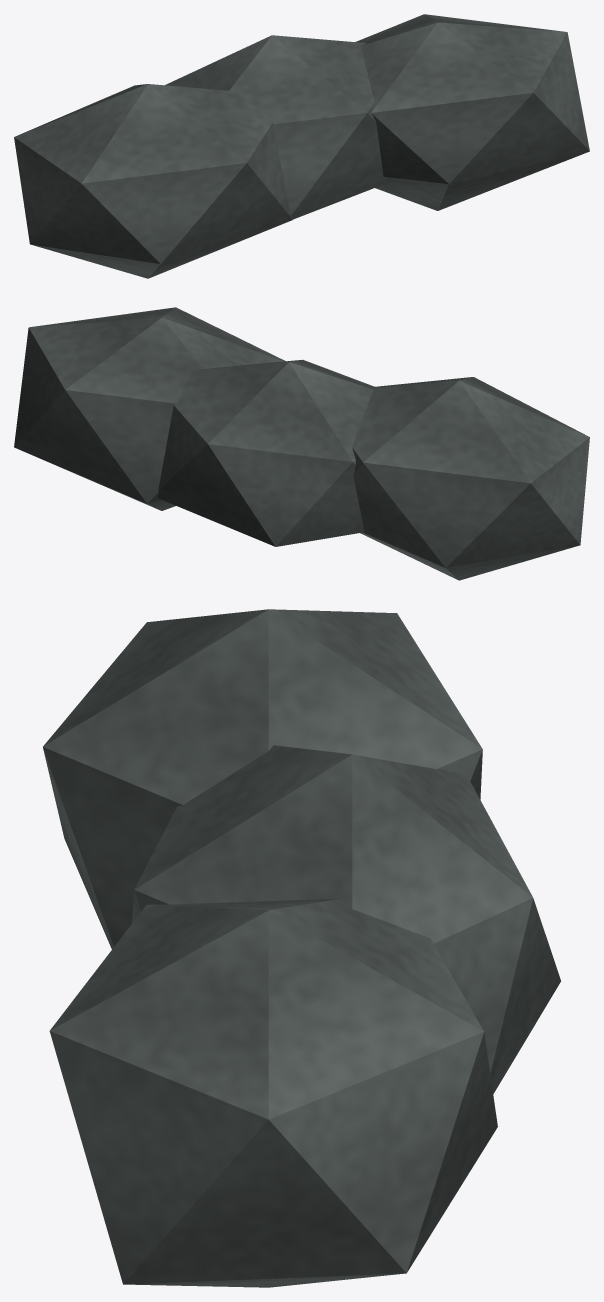
Rendered from reef_cluster.glb.
3 views of the same model, one above another, from view 1: azimuth 30°, elevation 25°; view 2: azimuth 150°, elevation 25°; view 3: azimuth 270°, elevation 25° (orthographic). The views are drawn at different scales.
Parts seen in each view (by area): view 1: Reef, Reef.002, Reef.001; view 2: Reef, Reef.001, Reef.002; view 3: Reef.002, Reef, Reef.001.
Part boxes in pixels (x1=…): Reef: x1=14, y1=84, x2=292, y2=278; Reef.002: x1=355, y1=14, x2=589, y2=210; Reef.001: x1=165, y1=35, x2=391, y2=219; Reef: x1=352, y1=377, x2=589, y2=580; Reef.001: x1=157, y1=359, x2=374, y2=546; Reef.002: x1=14, y1=307, x2=285, y2=510; Reef.002: x1=49, y1=898, x2=497, y2=1287; Reef: x1=43, y1=609, x2=482, y2=949; Reef.001: x1=132, y1=745, x2=560, y2=1093.
Size of the model in its own units: 1.49 by 0.5223 by 0.6201.
1 material, 1 textured.
